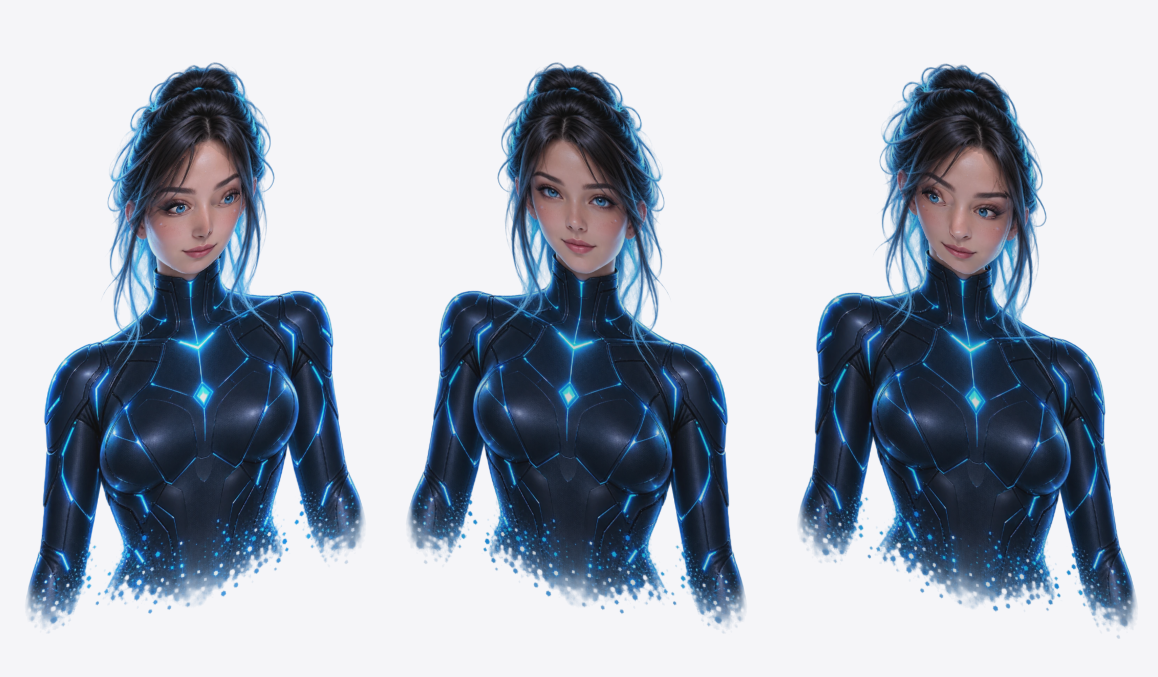
Rendered from elara-face.glb.
3 renders of one model, left to right at view 1: azimuth 30°, elevation 25°; view 2: azimuth 150°, elevation 25°; view 3: azimuth 330°, elevation 25°, orthographic.
Parts seen in each view (by area): view 1: Body, FaceSurface, MouthOverlay; view 2: Body; view 3: Body, FaceSurface, MouthOverlay.
Boxes of the visible parts, x1,y1,x2,y2 form: Body: [27, 62, 364, 626]; FaceSurface: [146, 145, 242, 273]; MouthOverlay: [170, 229, 224, 269]; Body: [407, 62, 744, 626]; Body: [799, 63, 1136, 637]; FaceSurface: [914, 146, 1009, 274]; MouthOverlay: [934, 229, 988, 270].
Bounding box in the file's own units: 10.24 × 15.36 × 0.6452.
Materials: 2 (2 with a texture image).
